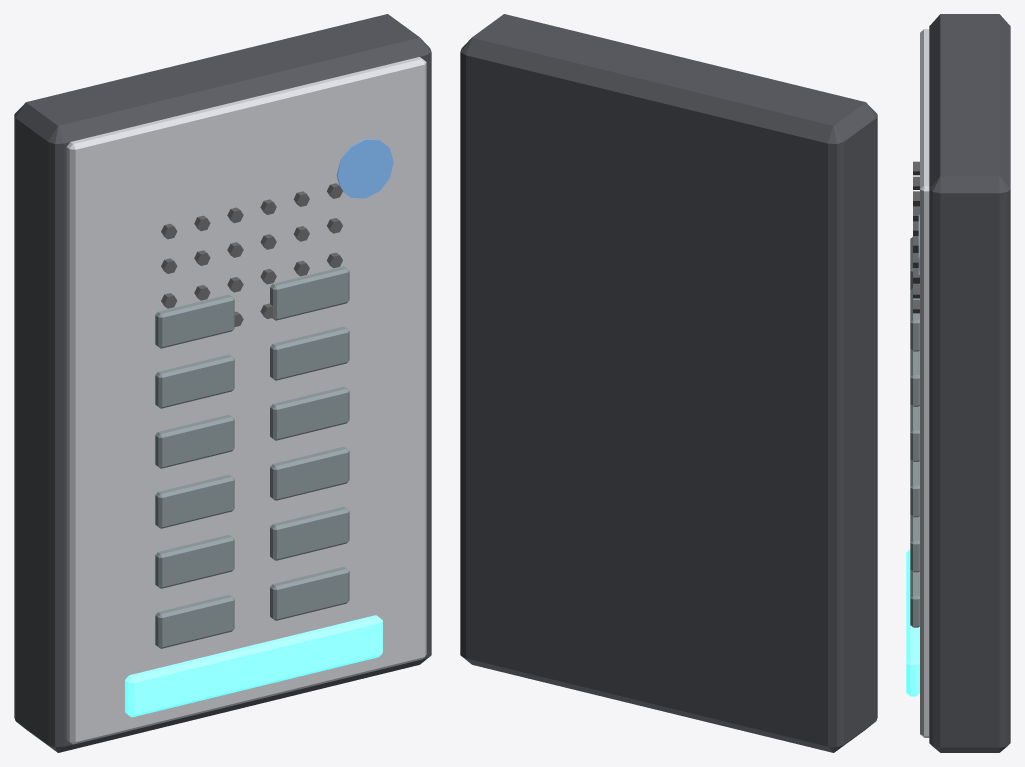
File: cyberpunk-apartment-and-neon-block-landlord-intercom-p-77fe0f0e__37797.glb
3 renders of one model, left to right at view 1: azimuth 30°, elevation 25°; view 2: azimuth 150°, elevation 25°; view 3: azimuth 270°, elevation 25°, orthographic. The views are drawn at different scales.
Parts seen in each view (by area): view 1: landlord-intercom-panel; view 2: landlord-intercom-panel; view 3: landlord-intercom-panel.
Boxes of the visible parts, bbox=[...] form: landlord-intercom-panel: bbox=[14, 14, 431, 752]; landlord-intercom-panel: bbox=[460, 14, 877, 752]; landlord-intercom-panel: bbox=[906, 14, 1010, 752].
Size of the model in its own units: 0.3 by 0.47 by 0.077.
